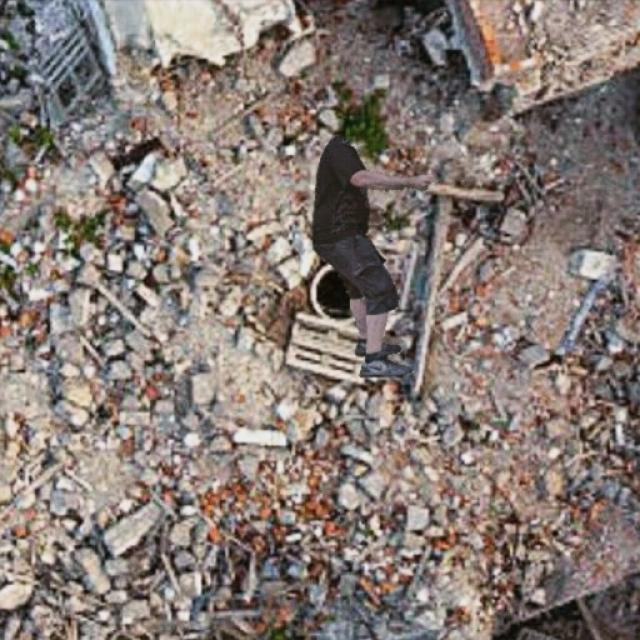Person in Rubble: (312, 136, 438, 376)
